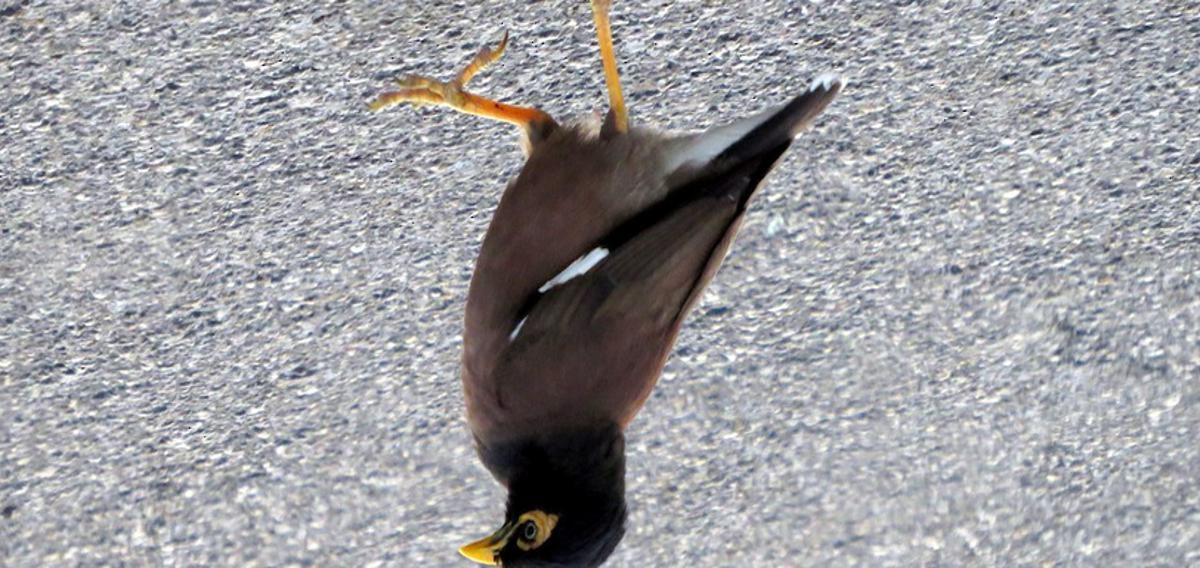myna: (383, 69, 756, 568)
